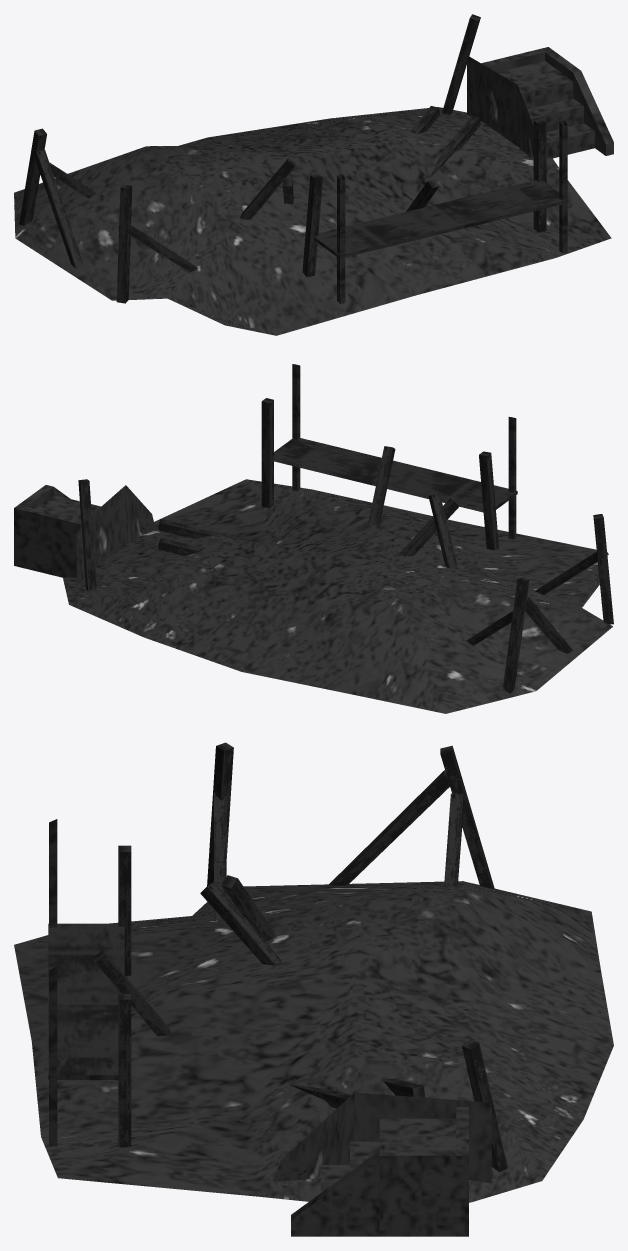
The model's file is MedievalHouse_004_destroyed_001.dae.
3 renders of one model, top to bottom at view 1: azimuth 30°, elevation 25°; view 2: azimuth 150°, elevation 25°; view 3: azimuth 270°, elevation 25°, orthographic. The views are drawn at different scales.
Visible parts, largest first — view 1: MedievalHouse_004_destroyed_001; view 2: MedievalHouse_004_destroyed_001; view 3: MedievalHouse_004_destroyed_001.
Boxes of the visible parts, x1,y1,x2,y2 form: MedievalHouse_004_destroyed_001: (14,14,613,335); MedievalHouse_004_destroyed_001: (14,364,613,713); MedievalHouse_004_destroyed_001: (14,742,613,1236).
Bounding box in the file's own units: 65.97 × 47.07 × 15.3.
1 material, 1 textured.
